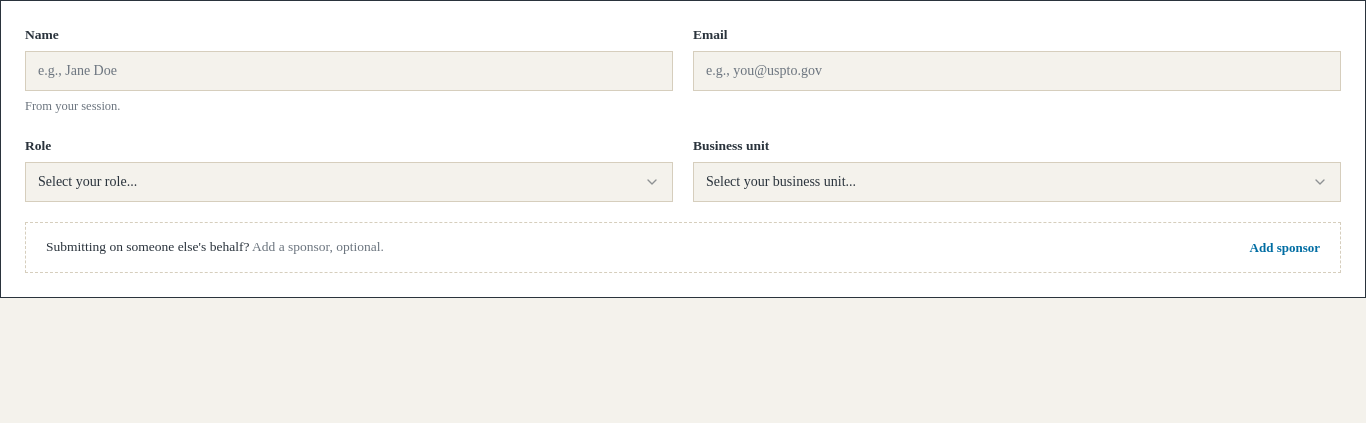
Step1SubmitterInfo — sponsor disclosure › hides the sponsor fields behind a link when no sponsor value exists
The width and height of the screenshot is (1366, 423).
Click the button "Add sponsor": (1285, 247) [1250,238,1320,257]
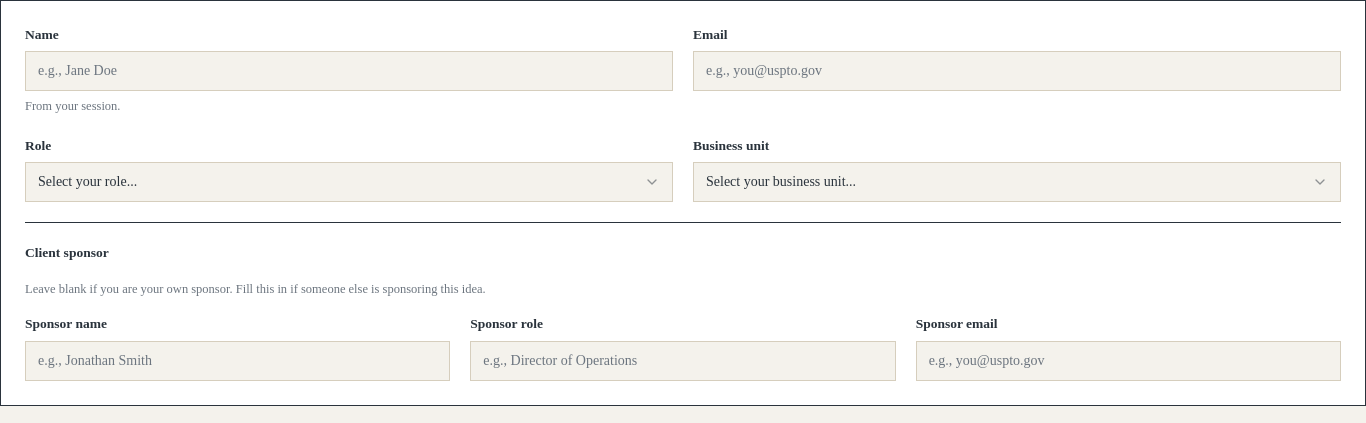
Result: the field with id "sponsorName" is shown at [25,340,450,380]
